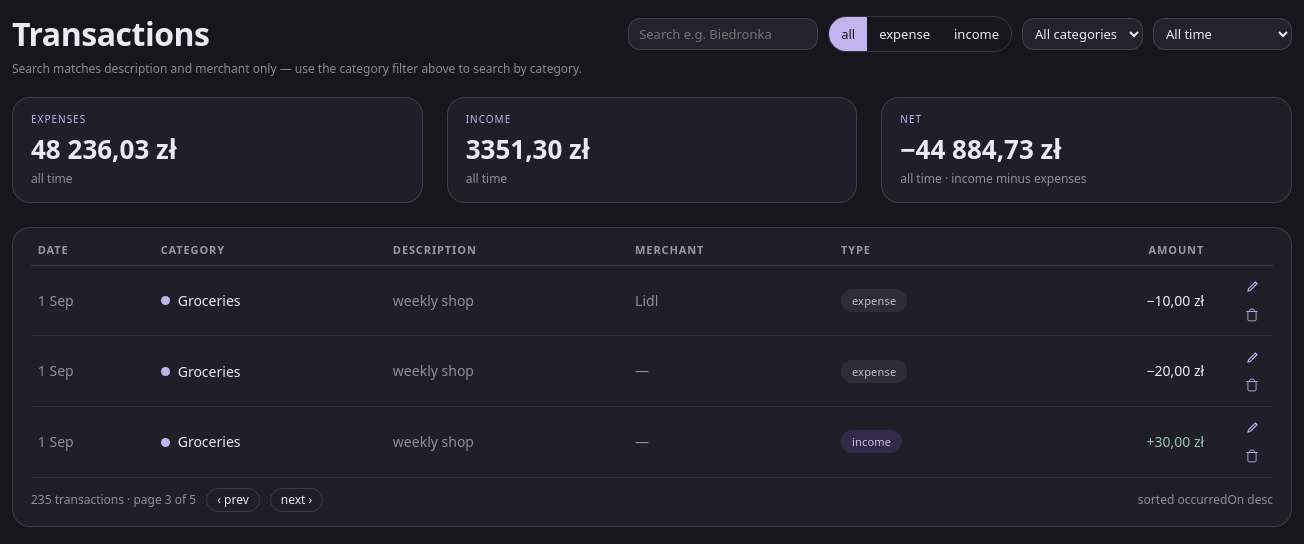
Scenario: changing the search term resets the page back to 0
The width and height of the screenshot is (1304, 544).
Expected: the text "235 transactions · page 3 of 5 ‹ prev next ›" is shown, [31, 488, 323, 512]
Type "groceries" into the field named "Search transactions".
click(723, 34); type("groceries")  # box [628, 18, 818, 50]
Wait 300 ms
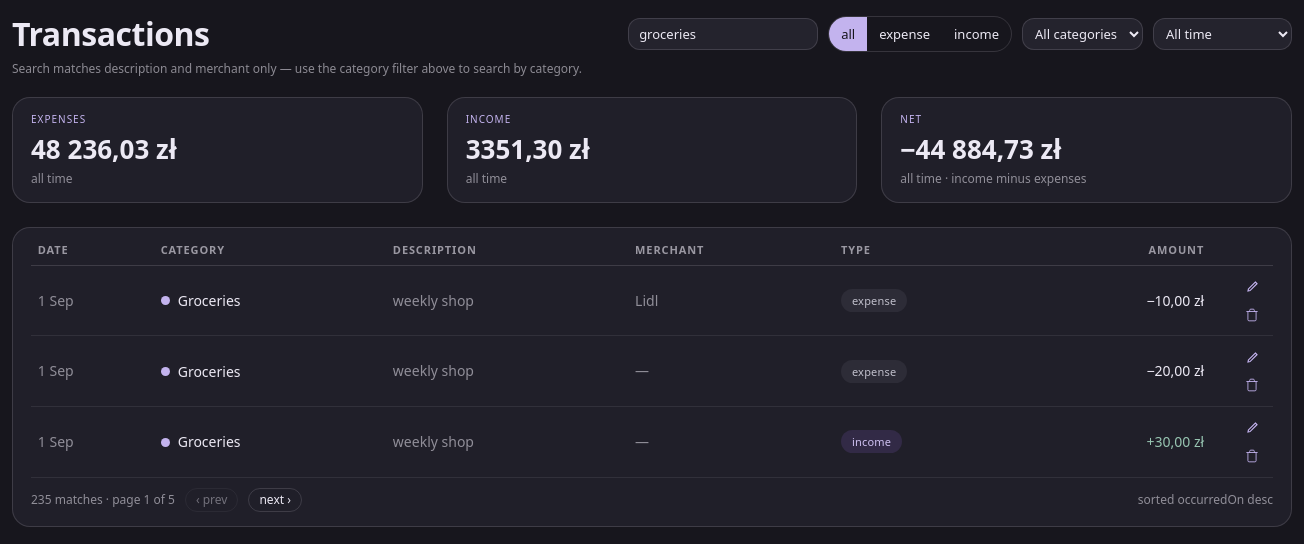
Result: the text "235 matches · page 1 of 5 ‹ prev next ›" is shown at [31, 488, 302, 512]
